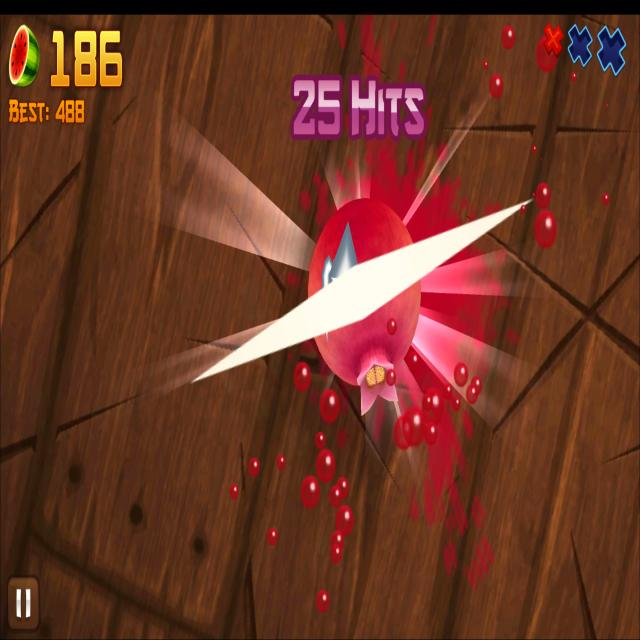fruit: (308, 199, 422, 388)
